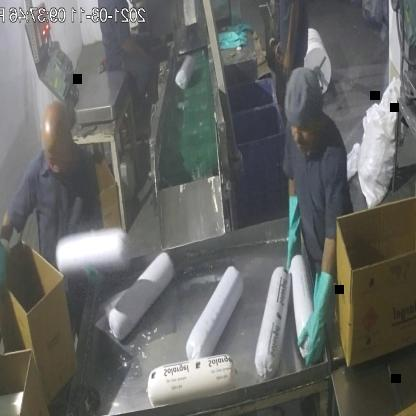glove: (295, 266, 341, 375), (280, 185, 310, 277), (0, 226, 14, 311)
no_glove: (277, 0, 303, 83)
